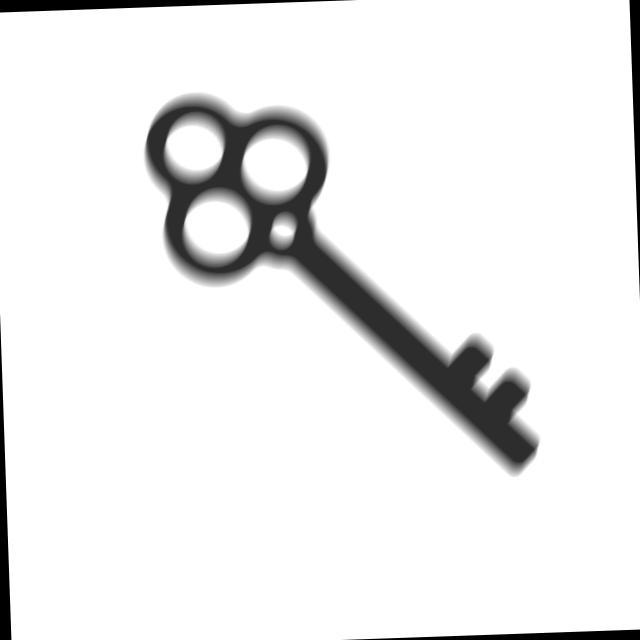key: (137, 75, 551, 499)
